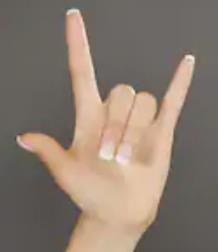back: (12, 6, 197, 220)
